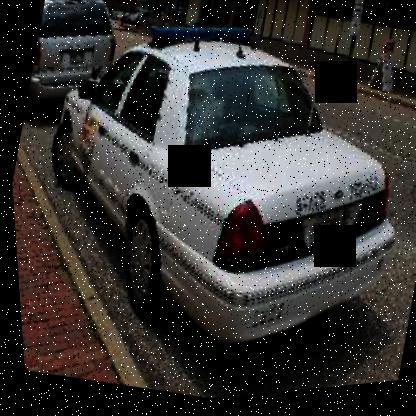emergency: (0, 0, 415, 404)
not_emergency: (19, 0, 144, 132)
